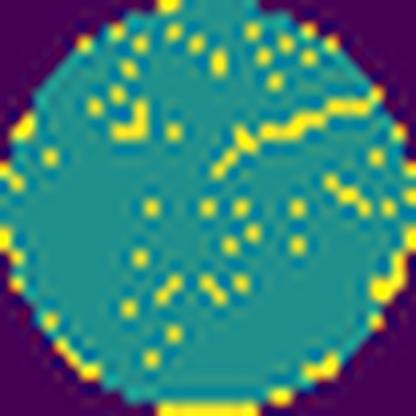Scratch: (204, 86, 384, 188)
